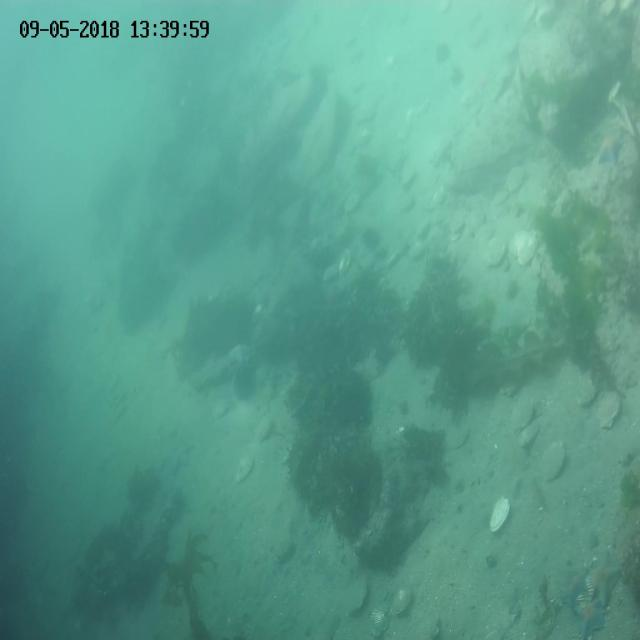scallop: (342, 574, 370, 618), (487, 493, 512, 538), (540, 442, 566, 484), (367, 602, 394, 640), (598, 390, 621, 430), (510, 400, 537, 432), (444, 422, 472, 452), (517, 420, 541, 450), (487, 236, 508, 269), (428, 224, 450, 255), (418, 613, 443, 640), (234, 451, 254, 483), (515, 238, 537, 267), (576, 382, 600, 408), (394, 583, 411, 617), (506, 166, 526, 194), (252, 416, 272, 443), (467, 210, 486, 236), (322, 260, 343, 282), (449, 208, 468, 232), (394, 194, 416, 214), (339, 248, 353, 278), (407, 240, 427, 260), (343, 192, 362, 212), (414, 217, 430, 239), (400, 169, 415, 188)
starfish: (590, 545, 622, 607), (574, 596, 608, 640), (596, 133, 624, 169), (168, 440, 196, 476)
